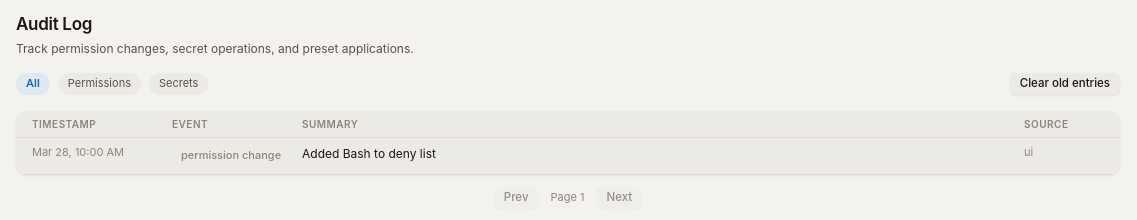
Test: AuditLogPage — clear entries › clicking 'Clear old entries' shows a confirmation prompt
The image size is (1137, 220).
Click the button "Clear old entries". click: [1065, 84]
box: [1010,73,1120,95]
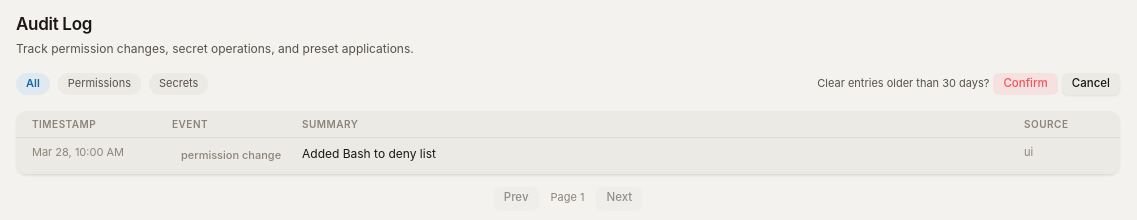
Expected: the text "Clear entries older than 30 days?" is shown, [817,76,989,92]
